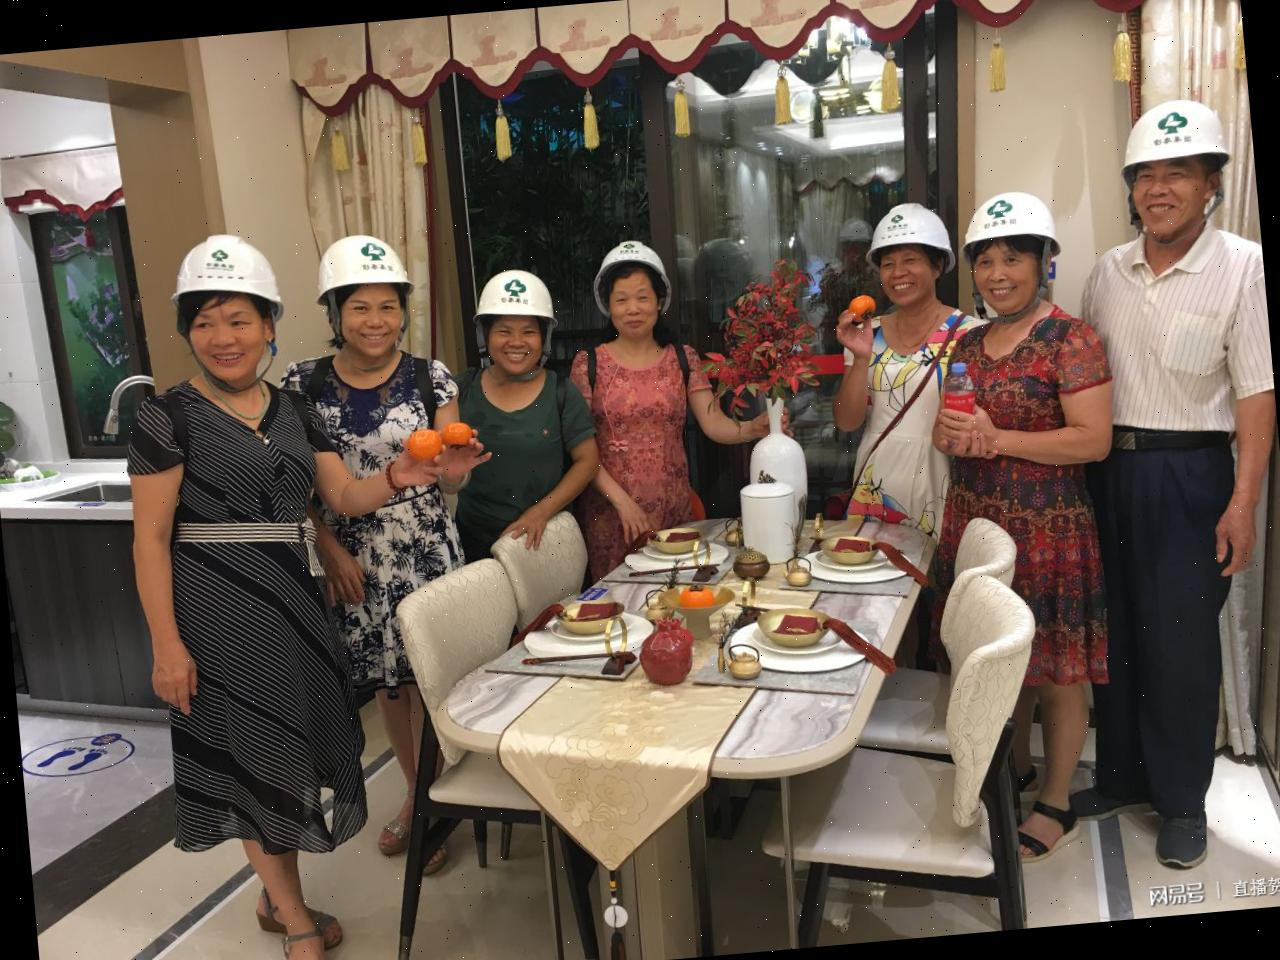helmet: (162, 221, 296, 320), (1116, 89, 1240, 179), (310, 226, 424, 307), (961, 174, 1062, 263), (587, 231, 676, 311), (471, 256, 565, 327), (857, 197, 958, 260)
no_wear: (132, 377, 354, 830), (944, 307, 1129, 686), (282, 347, 473, 679), (1089, 232, 1280, 479), (833, 306, 993, 537), (460, 357, 597, 568), (575, 335, 708, 550)
